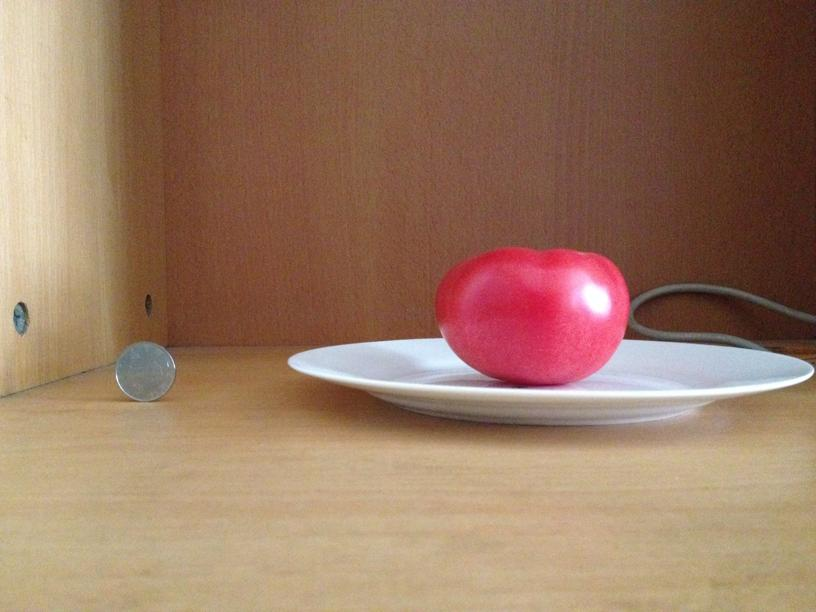coin: (112, 341, 178, 401)
tomato: (431, 244, 632, 386)
